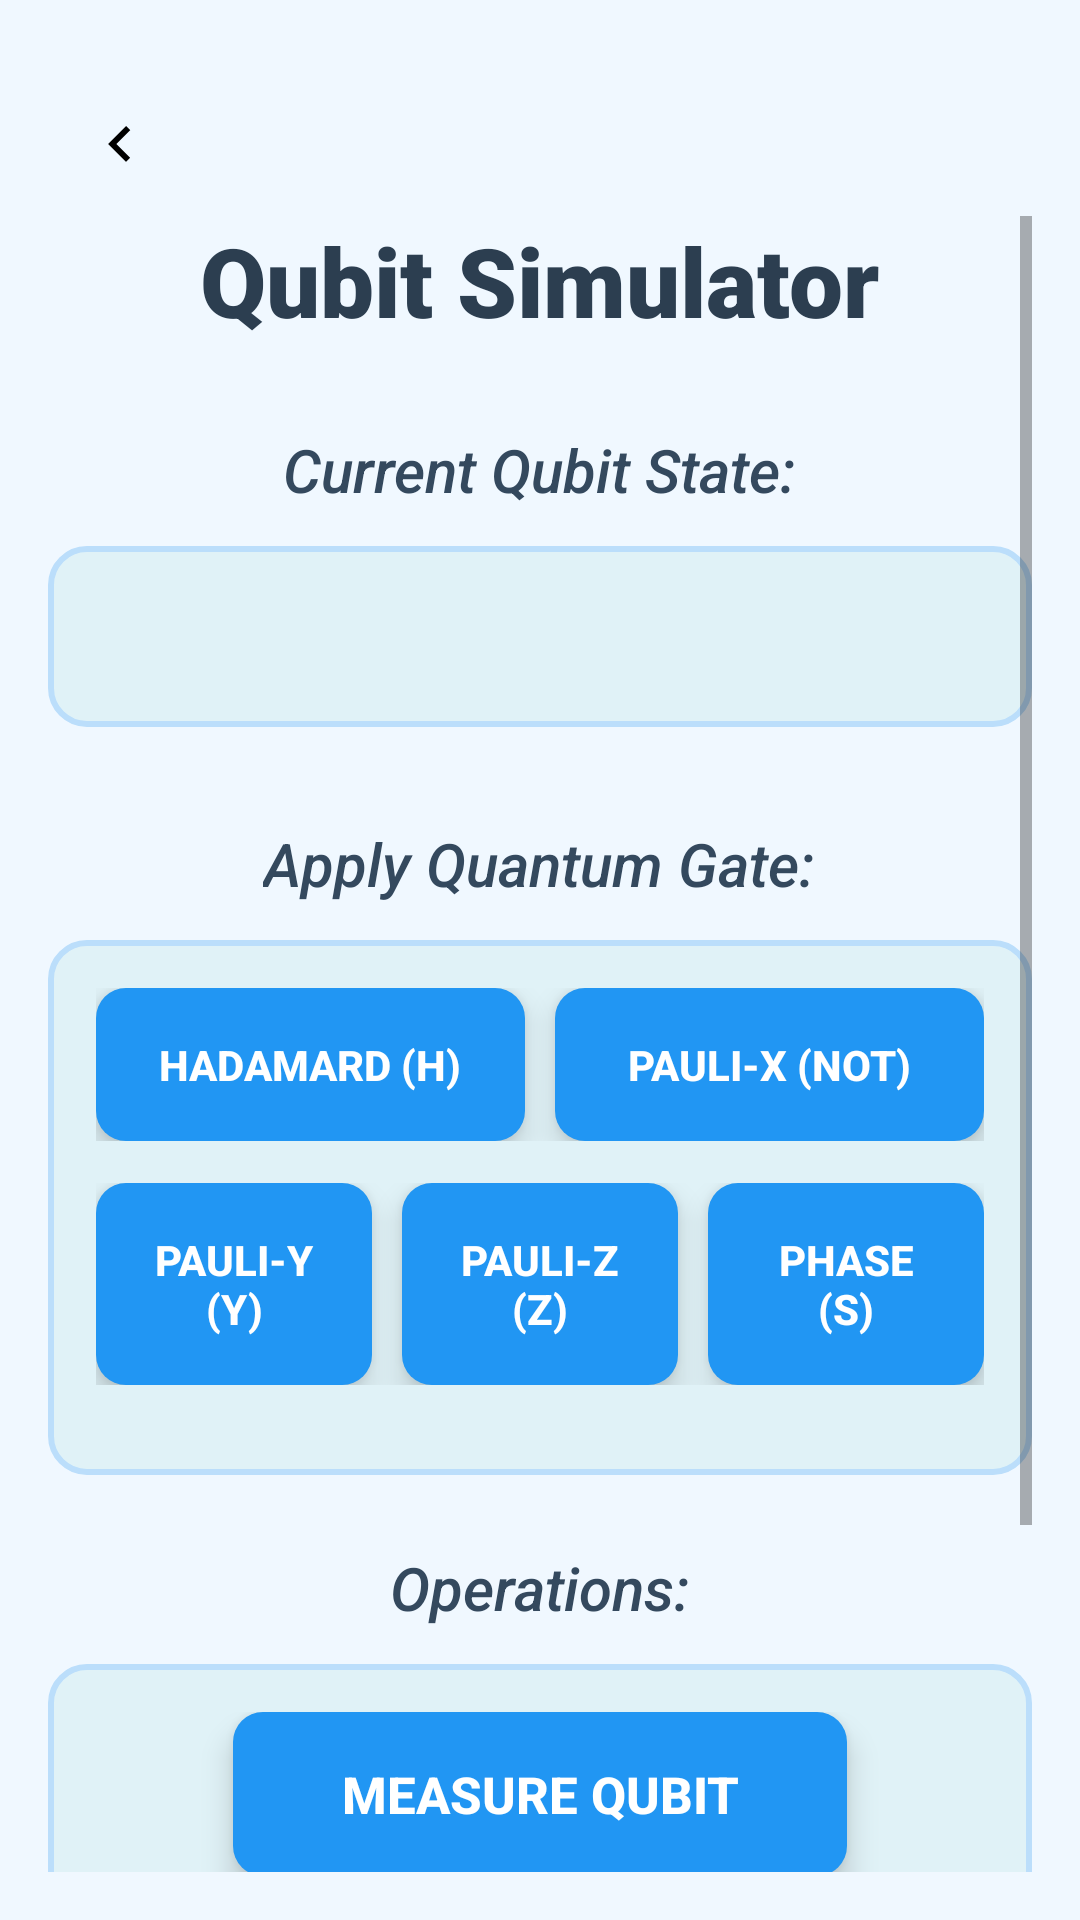

Screen size 1080*1920. Icon name, then its center in pixels as (x,y):
Back: (119,144)
